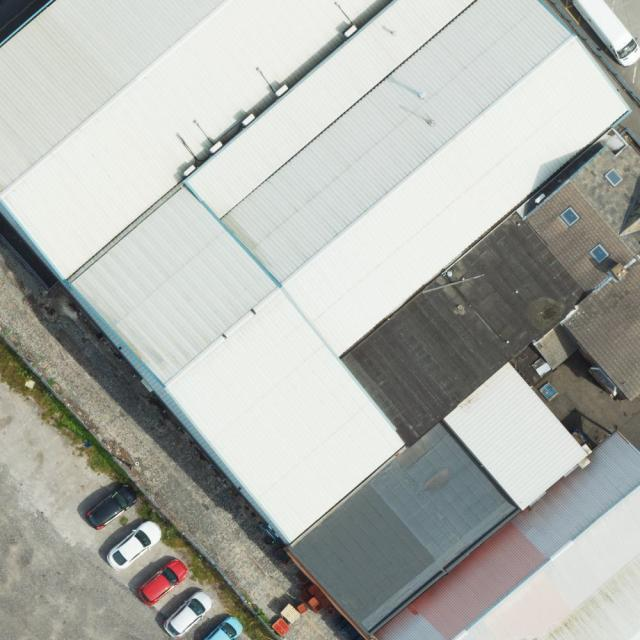roof: (0, 1, 640, 640)
skylight: (558, 204, 583, 231), (603, 165, 626, 189), (587, 242, 611, 265)
